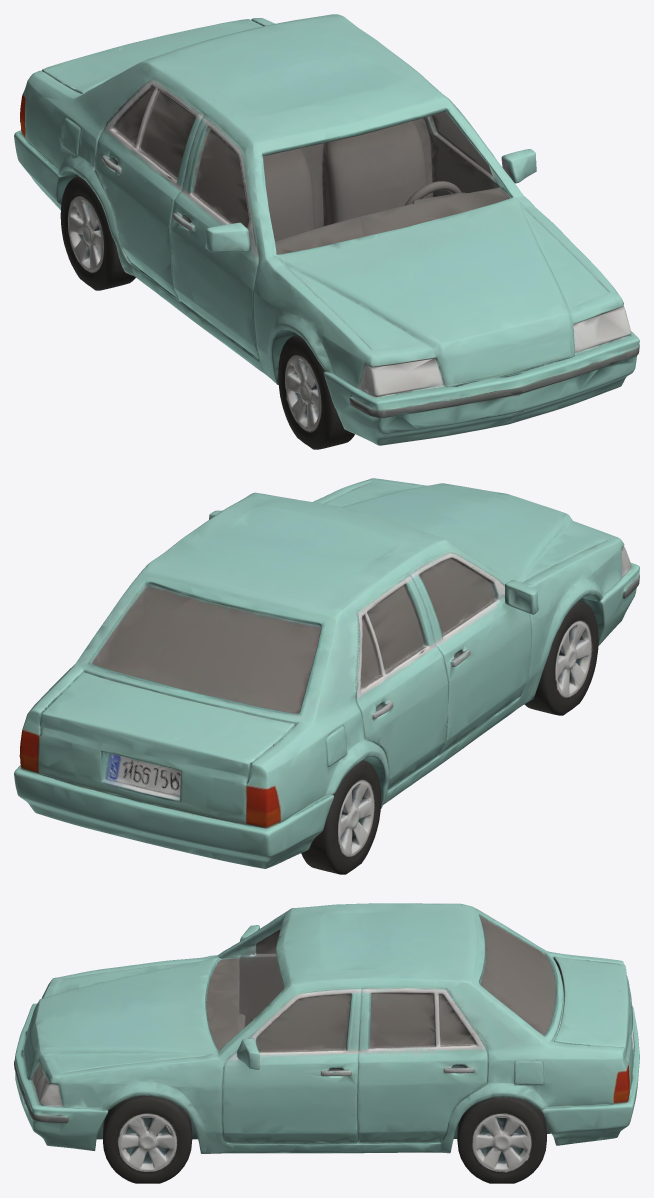
The model's file is sedan.glb.
3 renders of one model, top to bottom at view 1: azimuth 30°, elevation 25°; view 2: azimuth 150°, elevation 25°; view 3: azimuth 270°, elevation 25°, orthographic. The views are drawn at different scales.
Parts seen in each view (by area): view 1: geometry_0; view 2: geometry_0; view 3: geometry_0.
Boxes of the visible parts, box(x1,y1,x2,y2) form: geometry_0: box(14, 14, 639, 449); geometry_0: box(14, 478, 639, 874); geometry_0: box(14, 903, 639, 1183).
Size of the model in its own units: 2.21 by 1.54 by 4.5.
1 material, 1 textured.
